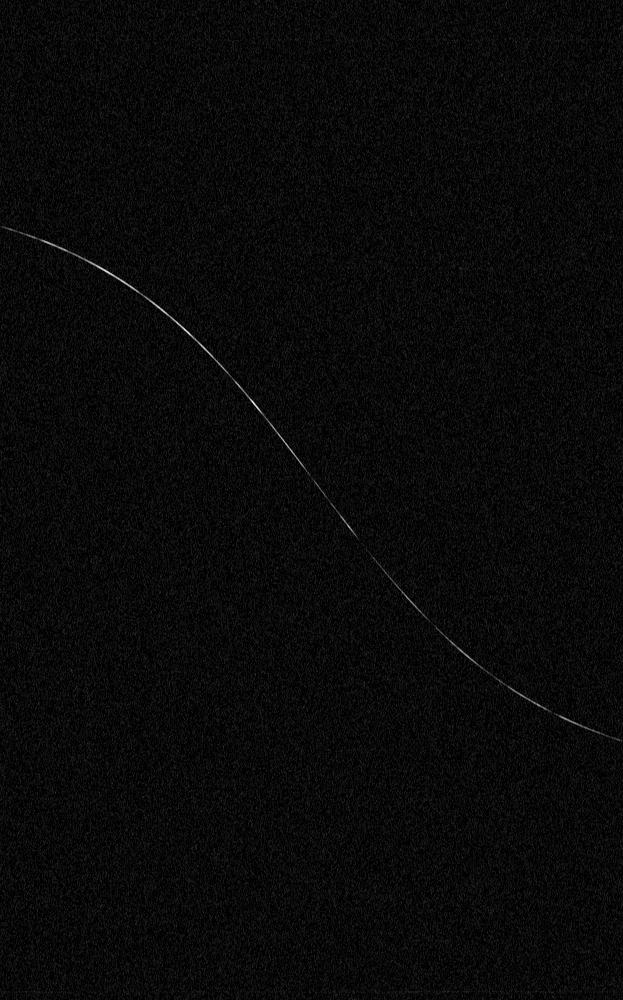signal: (0, 0, 622, 999)
